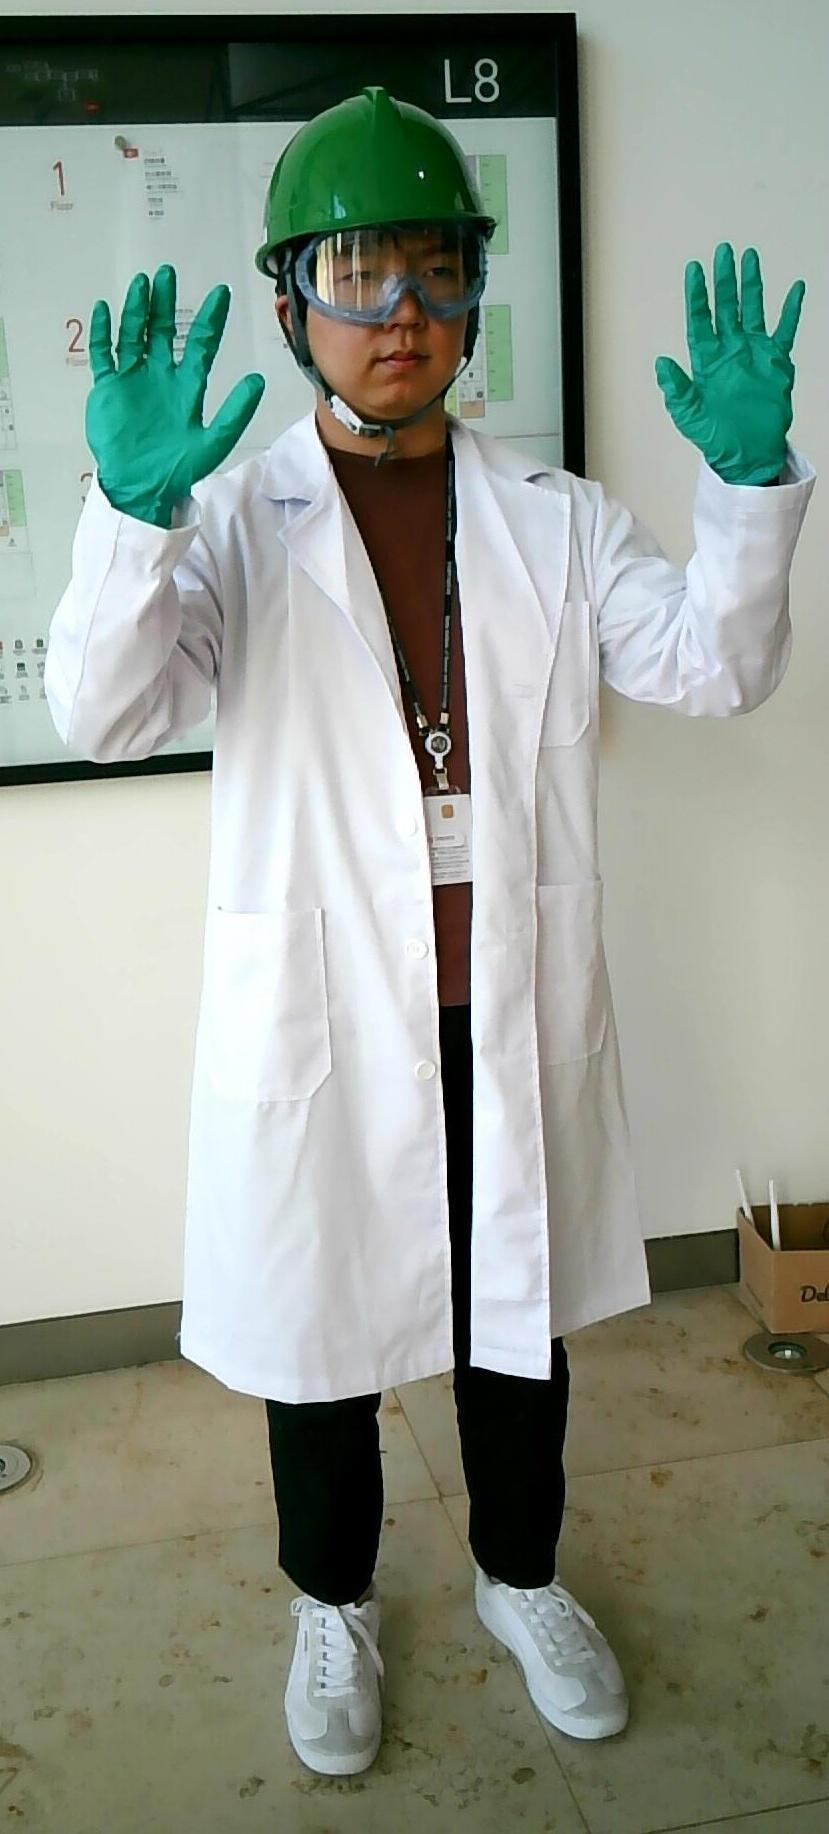lab_coat: (201, 484, 617, 1388)
